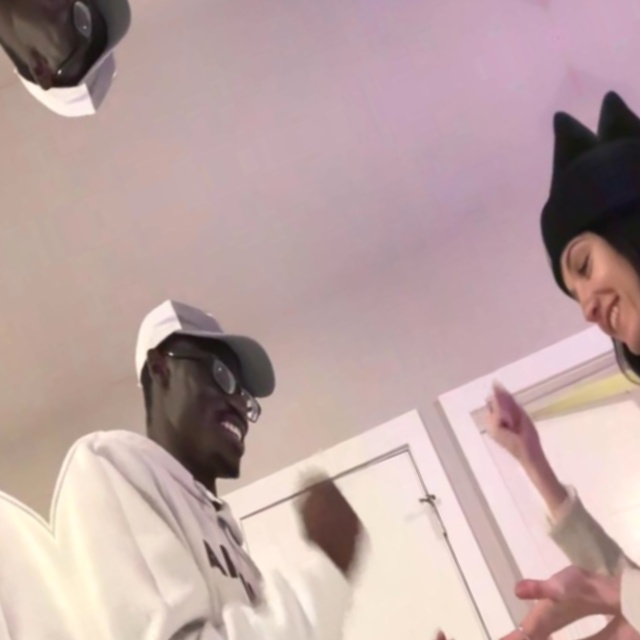Rock: (288, 462, 378, 579), (471, 376, 548, 475)
